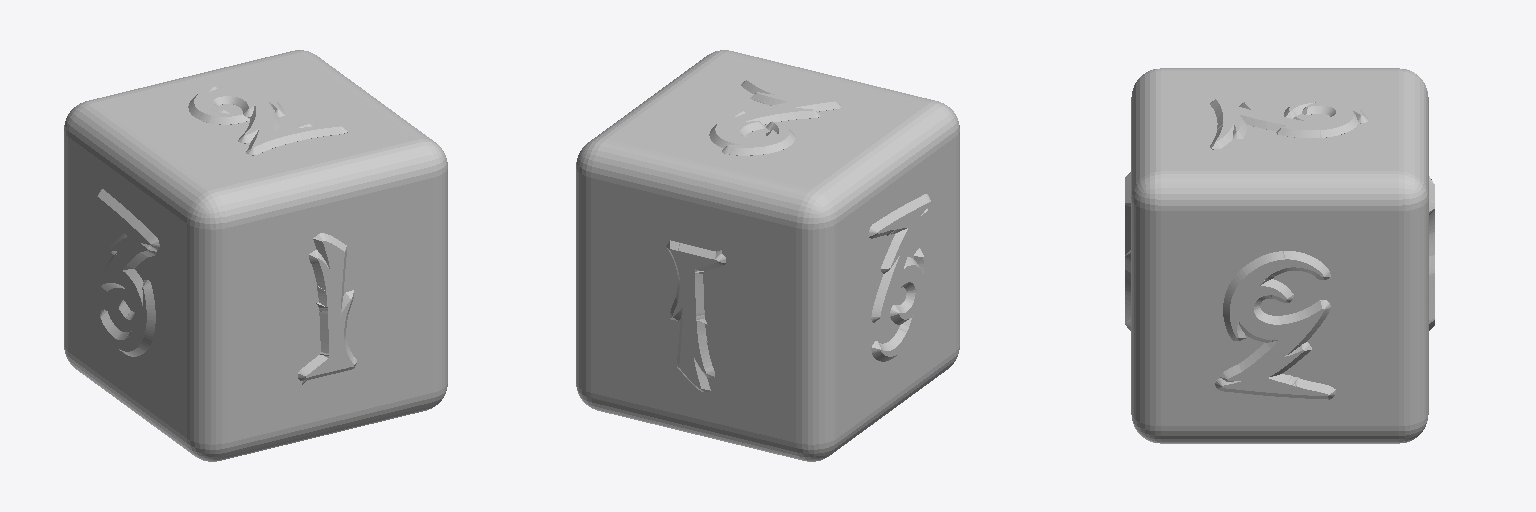
Rendered from dice.obj.
The picture shows the model from 3 angles: view 1: azimuth 30°, elevation 25°; view 2: azimuth 150°, elevation 25°; view 3: azimuth 270°, elevation 25°; orthographic projection.
Parts seen in each view (by area): view 1: d6_Cube.002; view 2: d6_Cube.002, d6.002_Cube.011; view 3: d6_Cube.002, d6.001_Cube.010, d6.002_Cube.011.
Boxes of the visible parts, x1=… form: d6_Cube.002: x1=64, y1=50, x2=447, y2=461; d6_Cube.002: x1=576, y1=50, x2=959, y2=461; d6.002_Cube.011: x1=591, y1=178, x2=795, y2=442; d6_Cube.002: x1=1125, y1=68, x2=1428, y2=443; d6.001_Cube.010: x1=1161, y1=211, x2=1398, y2=425; d6.002_Cube.011: x1=1429, y1=176, x2=1434, y2=330.
Bounding box in the file's own units: 1.45 × 1.44 × 1.44.